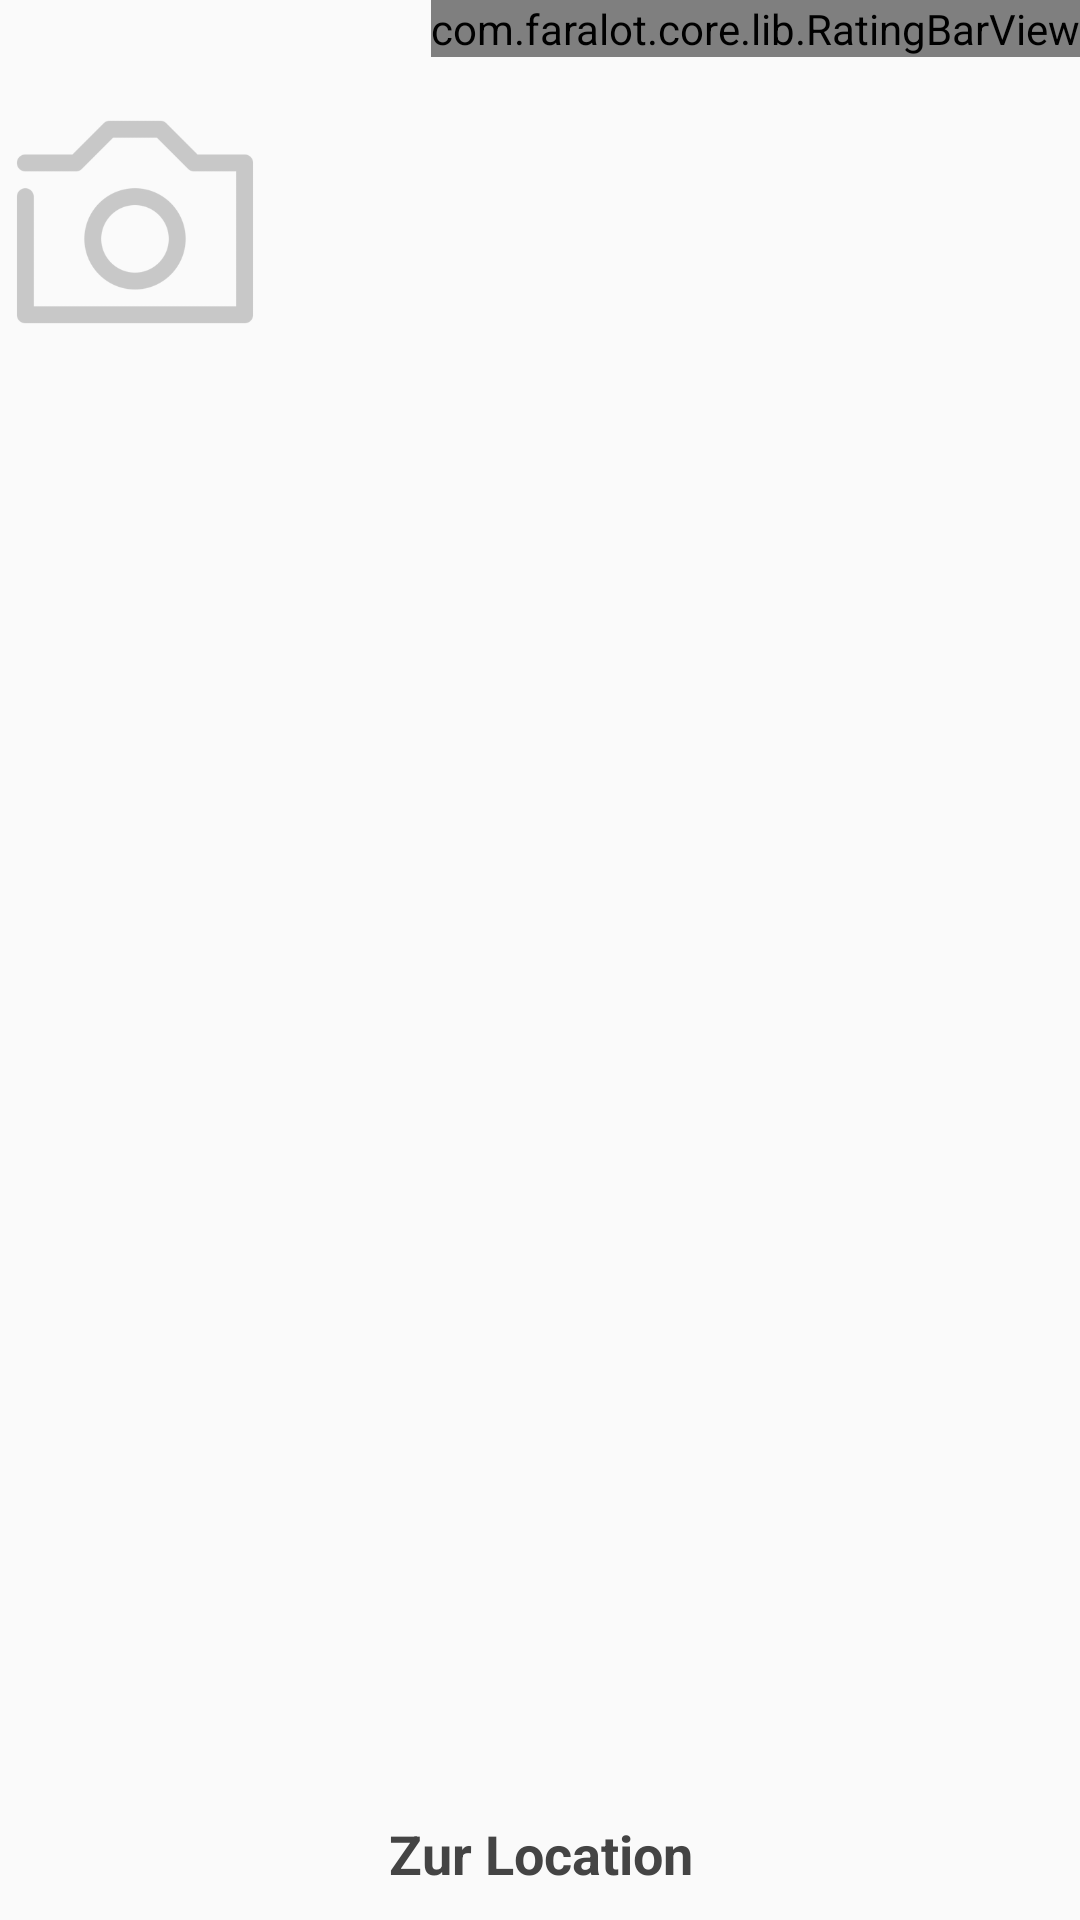

Screen size 1080 × 1920. Icon name, then its center in pixels as (x,y):
picture empty: (135,222)
